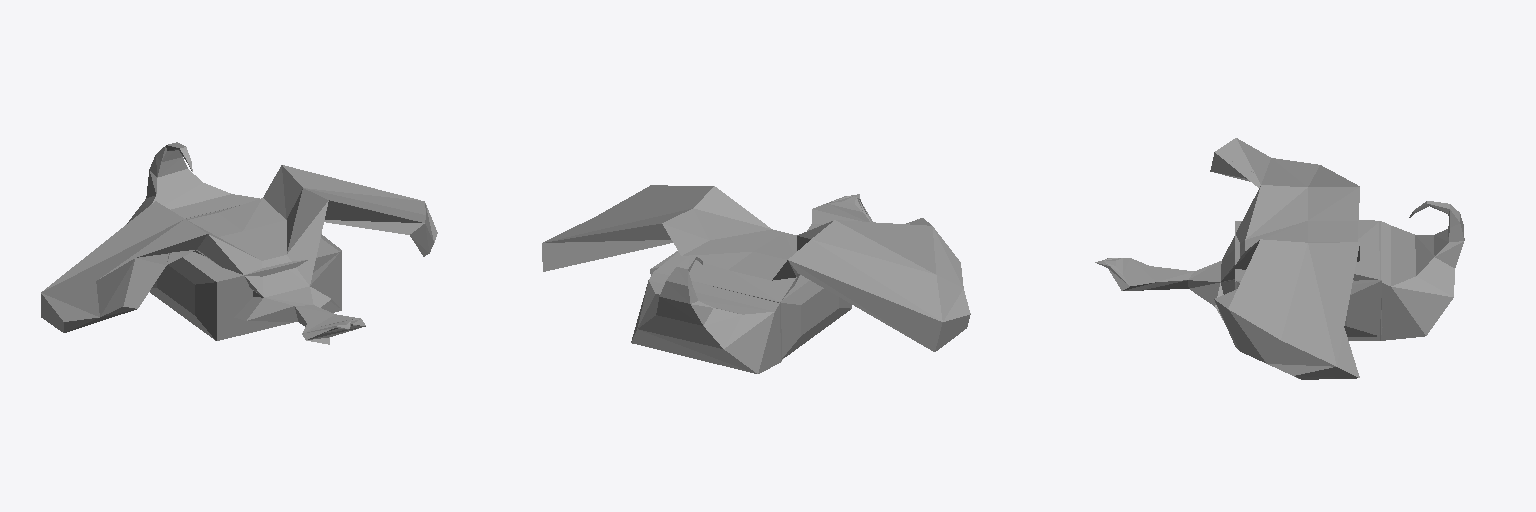
The model's file is creep.obj.
3 views of the same model, side by side, from view 1: azimuth 30°, elevation 25°; view 2: azimuth 150°, elevation 25°; view 3: azimuth 270°, elevation 25° (orthographic).
Parts seen in each view (by area): view 1: FlySnakeCar; view 2: FlySnakeCar; view 3: FlySnakeCar.
Part boxes in pixels (x1,y1,x2,y2): FlySnakeCar: (41, 142, 437, 344); FlySnakeCar: (542, 185, 970, 373); FlySnakeCar: (1095, 138, 1464, 379).
Bounding box in the file's own units: 6.27 × 1.65 × 5.08.